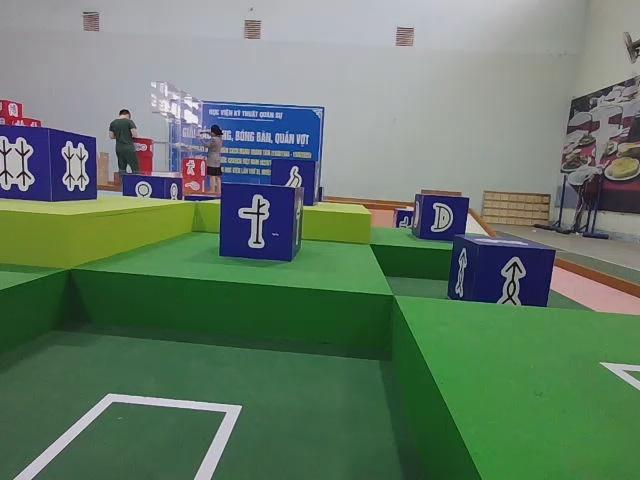R2 Real Blue: (447, 236, 556, 309), (2, 125, 99, 204), (221, 183, 307, 264), (413, 194, 469, 243), (269, 157, 320, 206), (122, 173, 182, 198)
